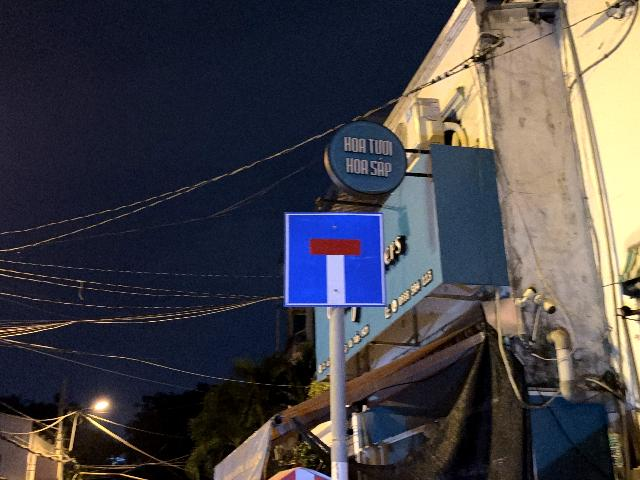duong-cut: (284, 212, 386, 307)
